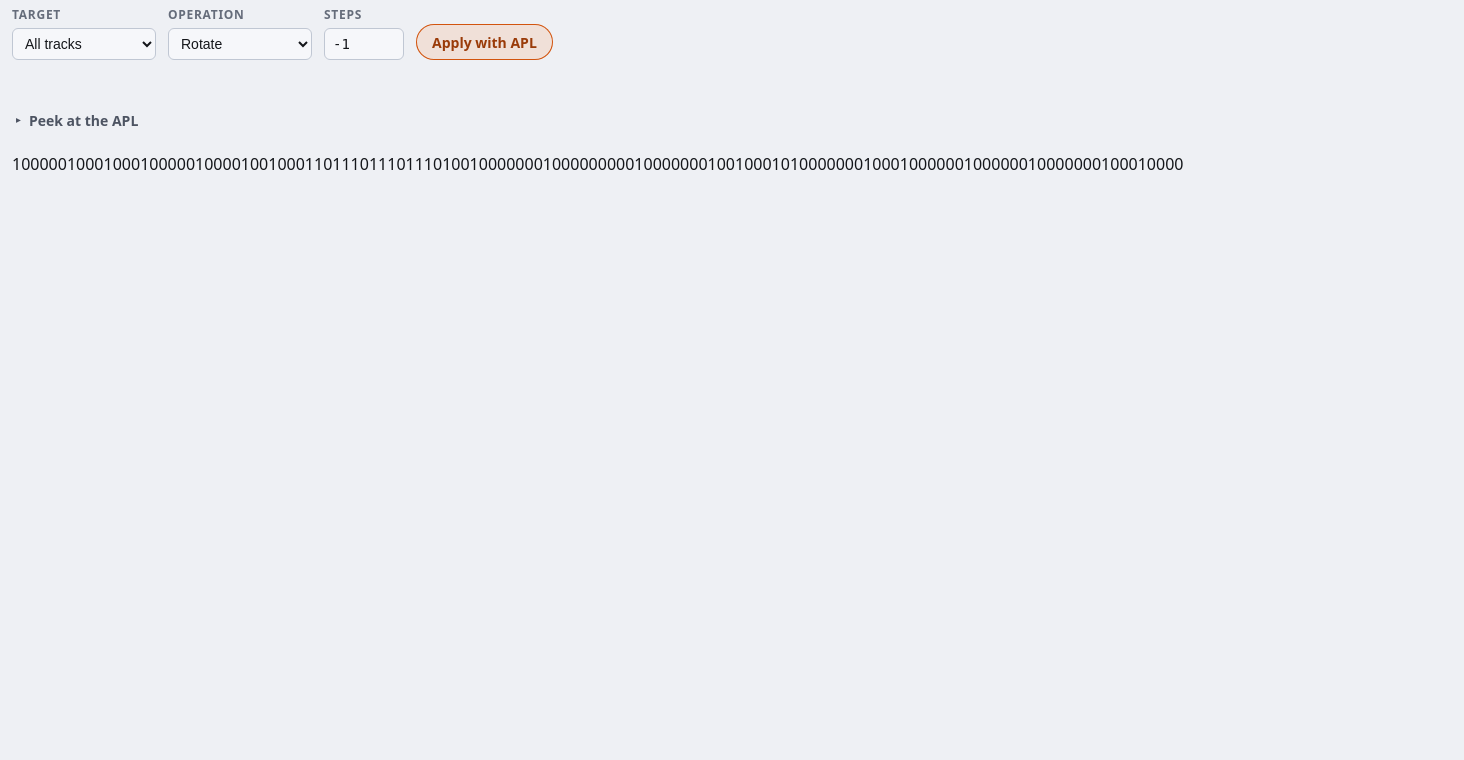
it: getting to Explore › is reached from inside Peek, and costs nothing to open
Check: the button "Edit this APL" is not shown
Click the button "▸ Peek at the APL" at (79, 120), box [12,104,146,136]
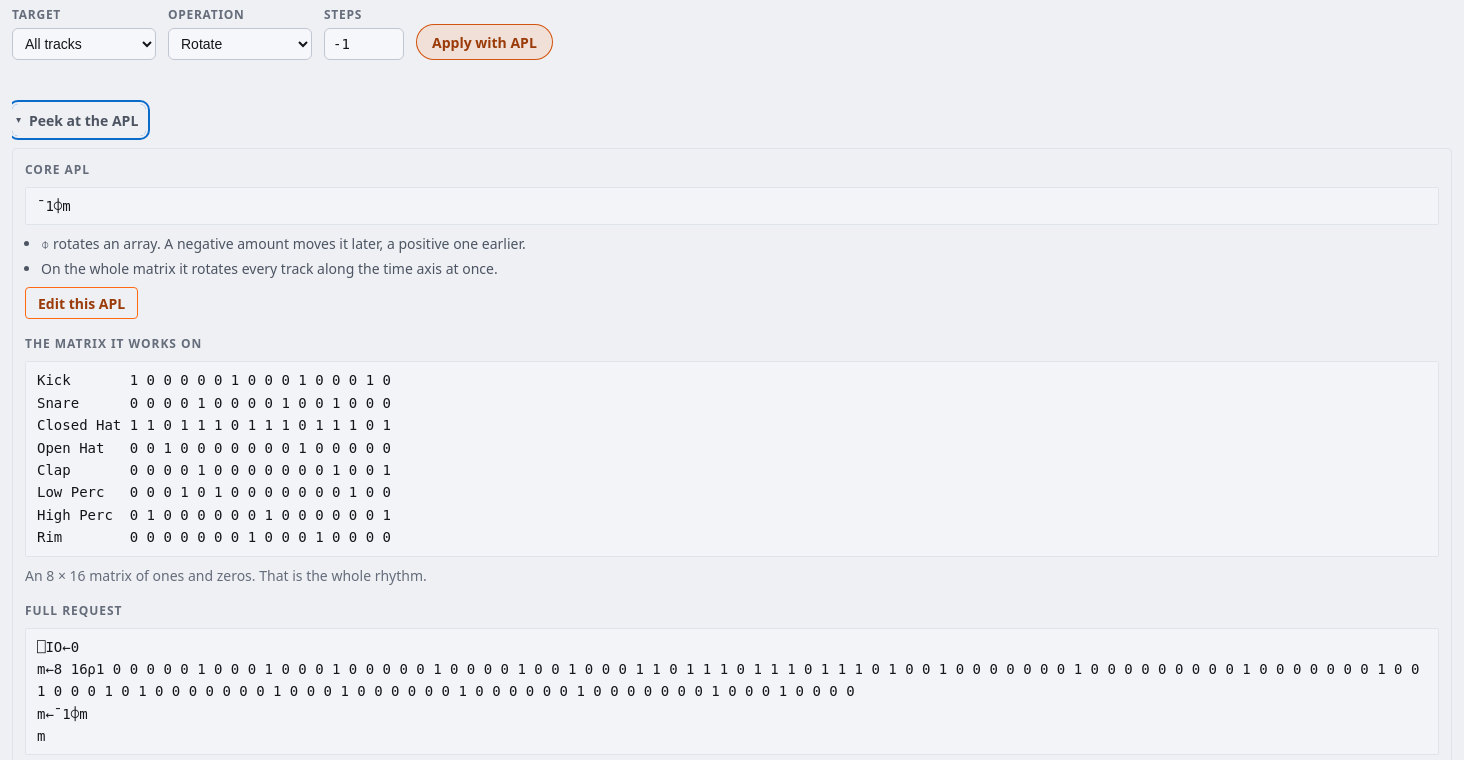
Check: the field labelled "Your APL expression" is not shown
Check: the button "Edit this APL" is shown
Click the button "Edit this APL" at (82, 303), box [25,287,138,319]
(page scrolled)
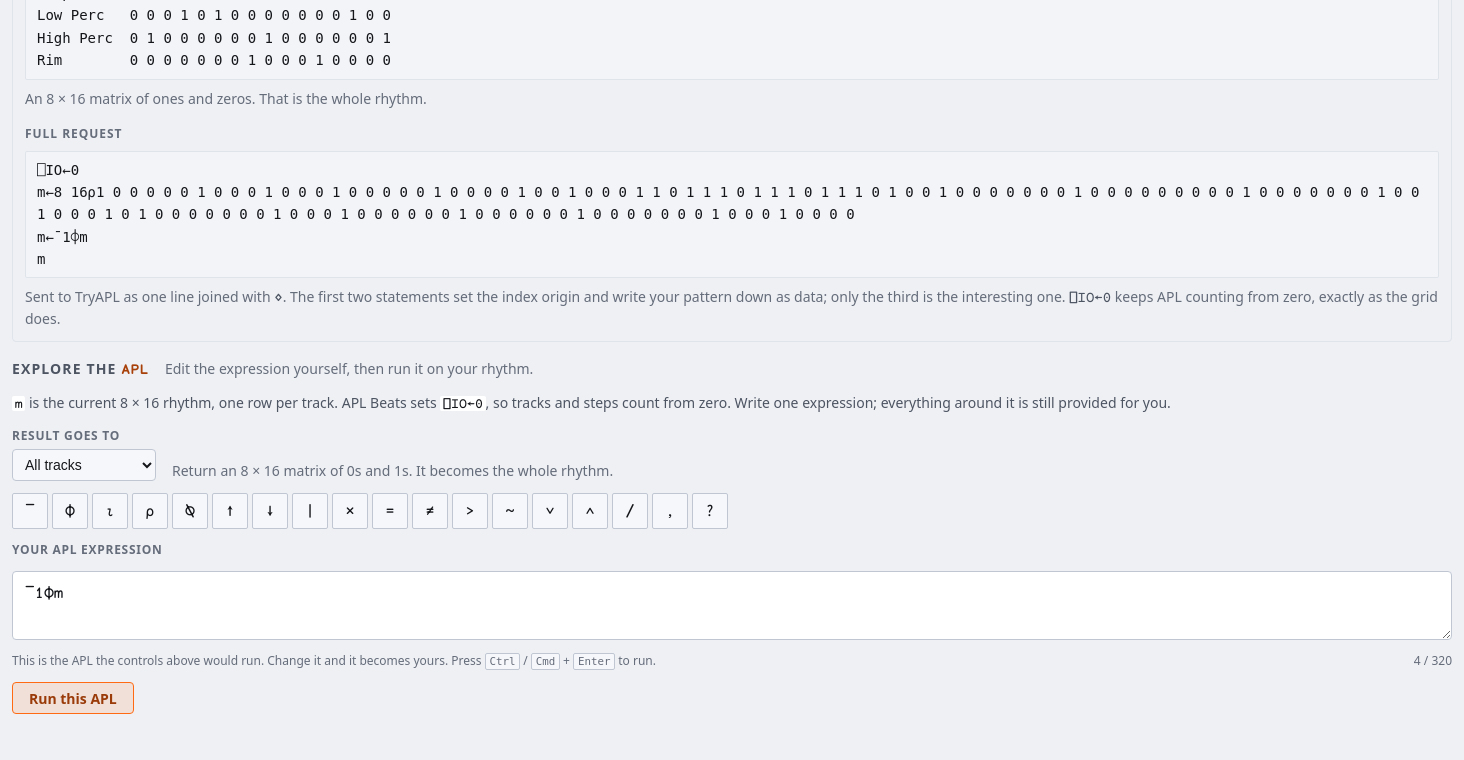
Check: the text box labelled "Your APL expression" is shown, box [12,571,1452,640]
